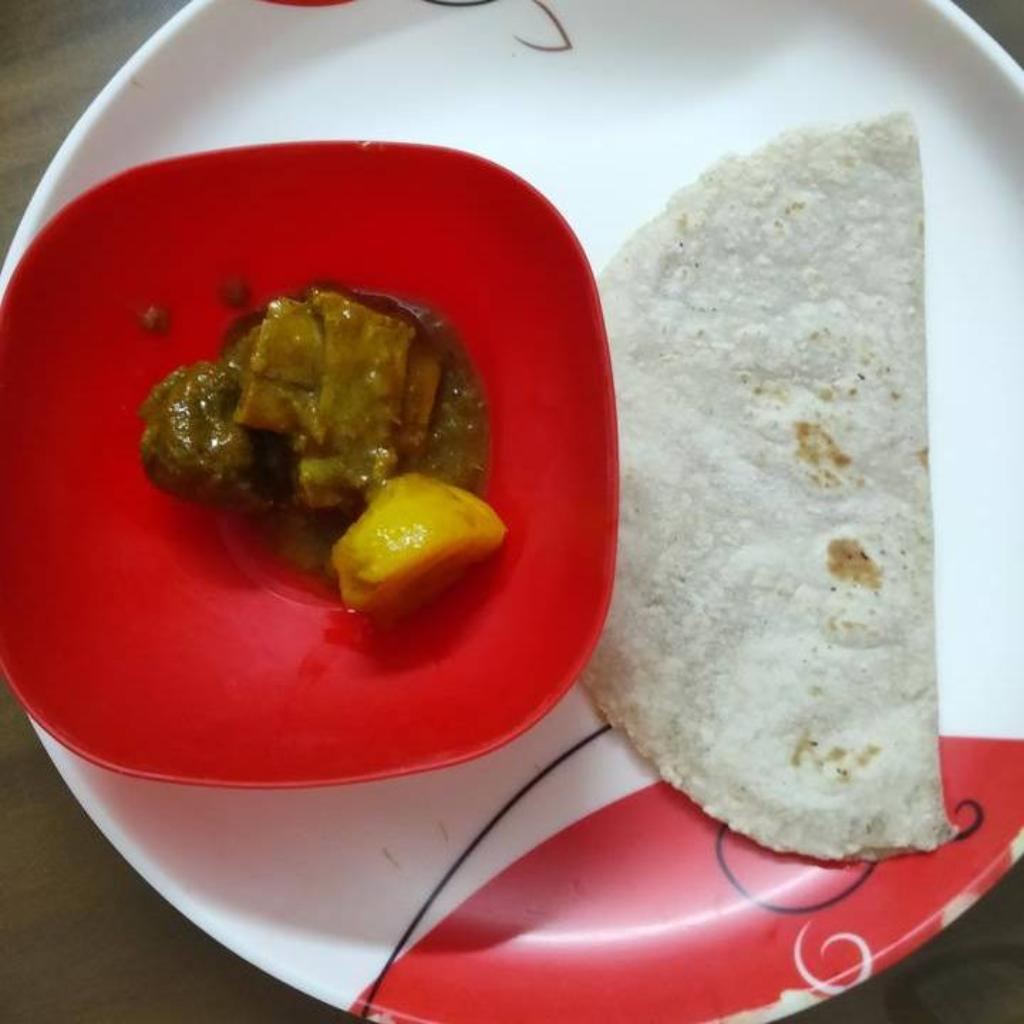beef: (133, 286, 510, 617)
ruti: (577, 113, 961, 866)
